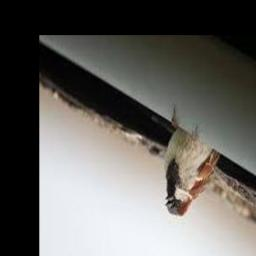Sparrow: (164, 111, 221, 216)
